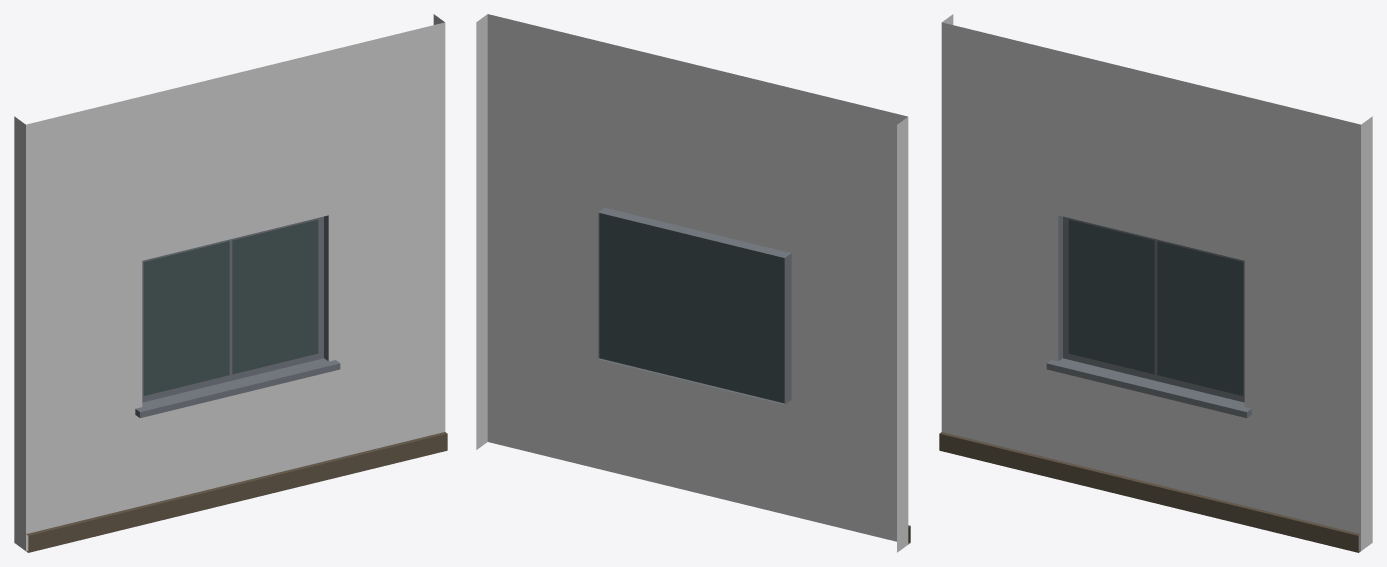
Rendered from mid-stair3.fbx.
3 views of the same model, side by side, from view 1: azimuth 30°, elevation 25°; view 2: azimuth 150°, elevation 25°; view 3: azimuth 330°, elevation 25° (orthographic).
Visible parts, largest first — view 1: a2000/0/mid-stair; view 2: a2000/0/mid-stair; view 3: a2000/0/mid-stair.
Part boxes in pixels (x1=…): a2000/0/mid-stair: x1=14, y1=14, x2=447, y2=552; a2000/0/mid-stair: x1=476, y1=14, x2=910, y2=552; a2000/0/mid-stair: x1=939, y1=14, x2=1372, y2=552.
Bounding box in the file's own units: 3.6 × 3.5 × 0.24.
